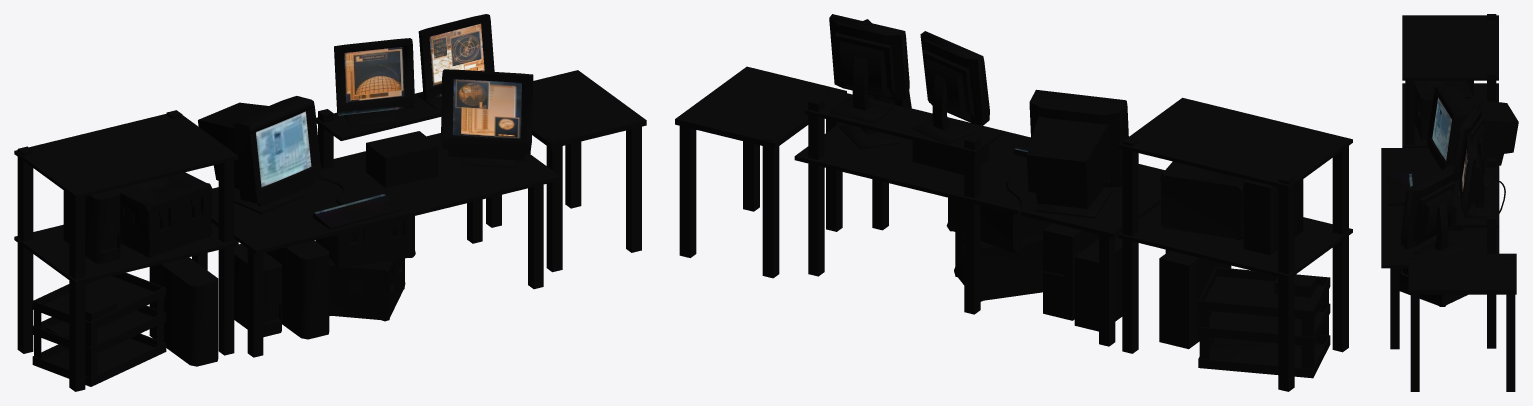
The model's file is silo_workspace1.glb.
3 renders of one model, left to right at view 1: azimuth 30°, elevation 25°; view 2: azimuth 150°, elevation 25°; view 3: azimuth 270°, elevation 25°, orthographic. The views are drawn at different scales.
Parts seen in each view (by area): view 1: 0_silo_workspace1_sheet, 2_launchRoomDisplayB, 3_launchRoomDisplayA, 1_launchRoomDisplayC; view 2: 0_silo_workspace1_sheet; view 3: 0_silo_workspace1_sheet.
Part boxes in pixels (bbox=[...]): 0_silo_workspace1_sheet: bbox=[14, 14, 646, 391]; 2_launchRoomDisplayB: bbox=[452, 79, 521, 139]; 3_launchRoomDisplayA: bbox=[344, 47, 404, 102]; 1_launchRoomDisplayC: bbox=[429, 23, 484, 85]; 0_silo_workspace1_sheet: bbox=[675, 14, 1352, 391]; 0_silo_workspace1_sheet: bbox=[1381, 14, 1518, 391].
Size of the model in its own units: 4.14 by 1.63 by 1.08.
4 materials, 4 textured.
